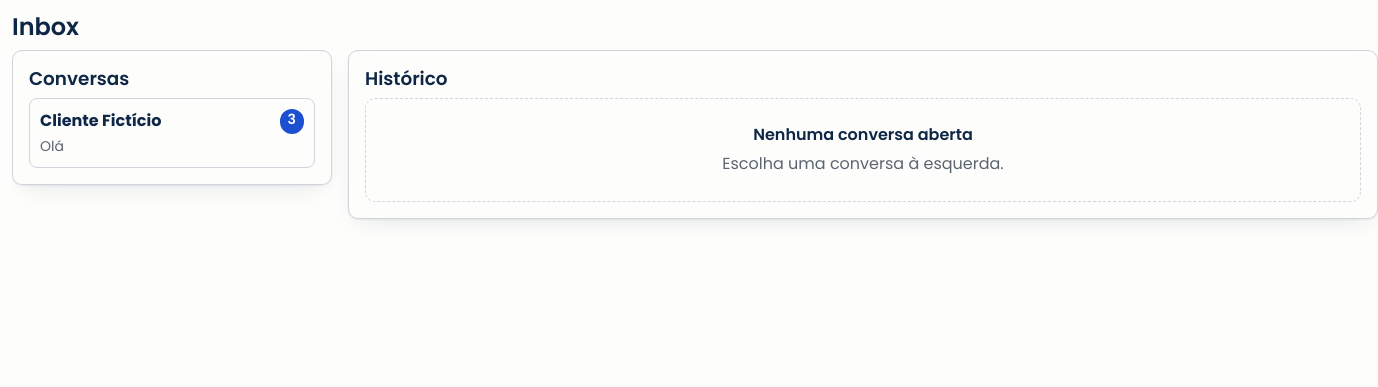
Test: F-09 — contador de não lidas só zera quando o backend confirma › PATCH recusado mantém o contador e avisa a pessoa
The image size is (1378, 387).
Click the button "Cliente Fictício 3 Olá". click: (101, 120)
box: [29,98,315,168]
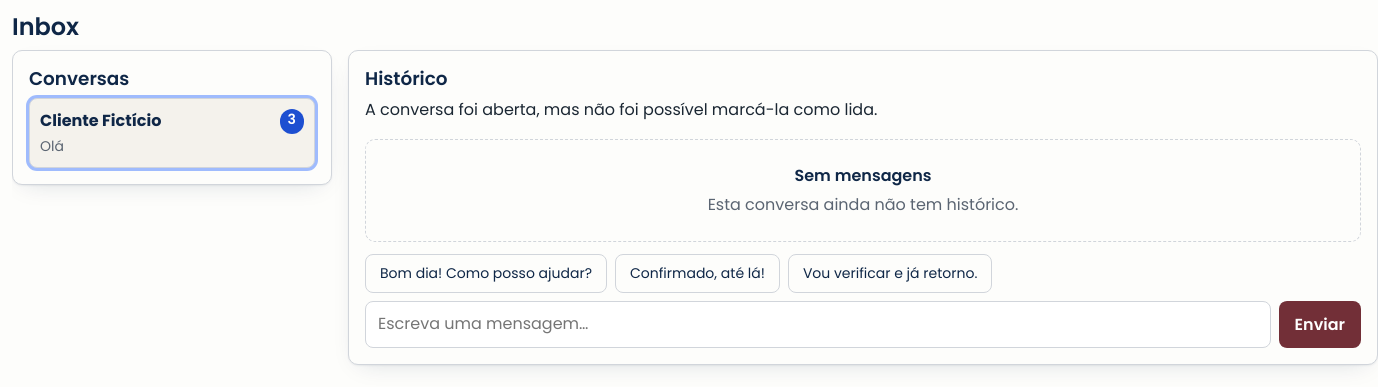
Check: the text "3" is shown, box [280,109,304,134]
Check: the text "A conversa foi aberta, mas não foi possível marcá-la como lida." is shown, box [365,98,877,121]
